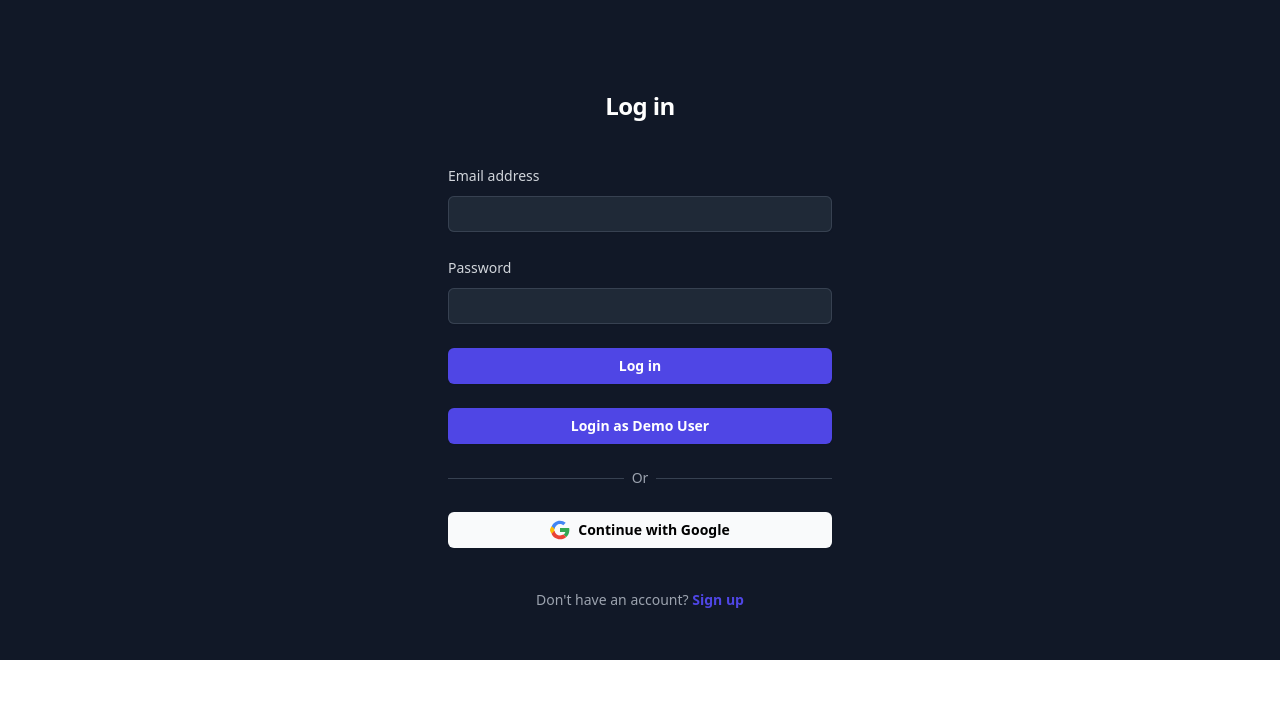
LoginForm › should show validation error for invalid email format
Type "invalid-email" into the field labelled "Email address". click: (640, 214)
box: [448, 196, 832, 232]
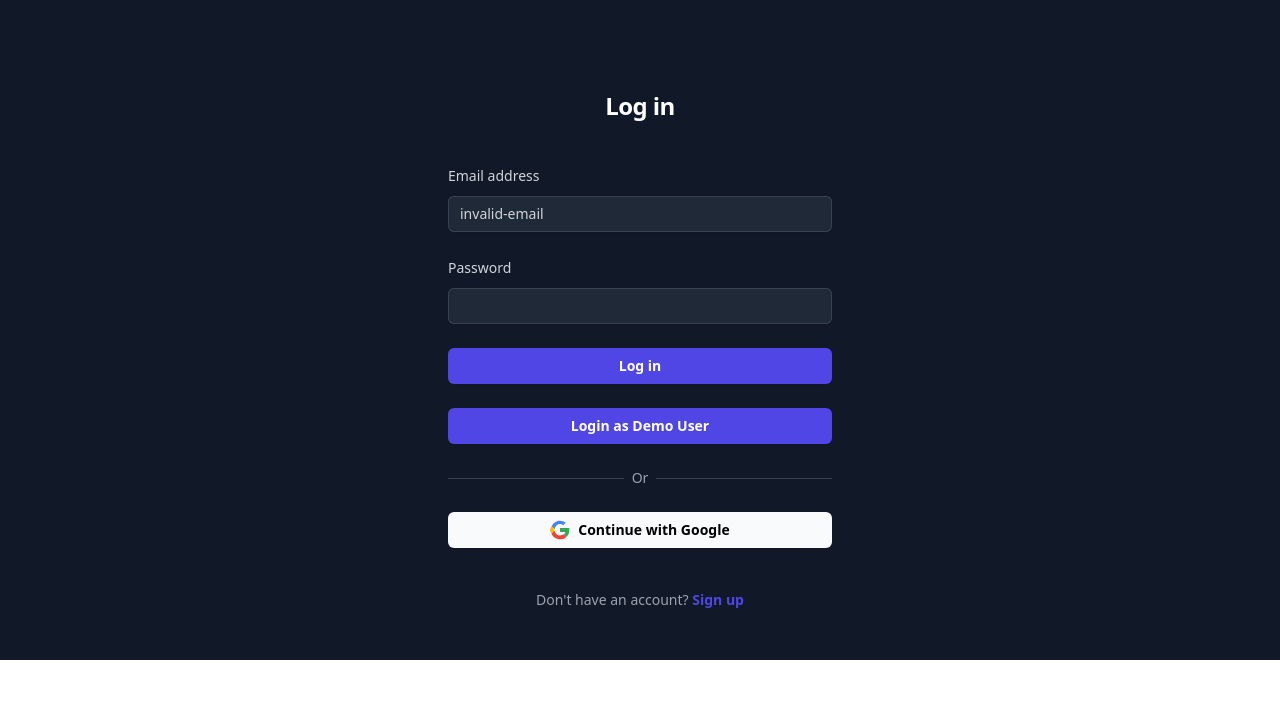
Submit the form from the button "Log in", box [448, 348, 832, 384]
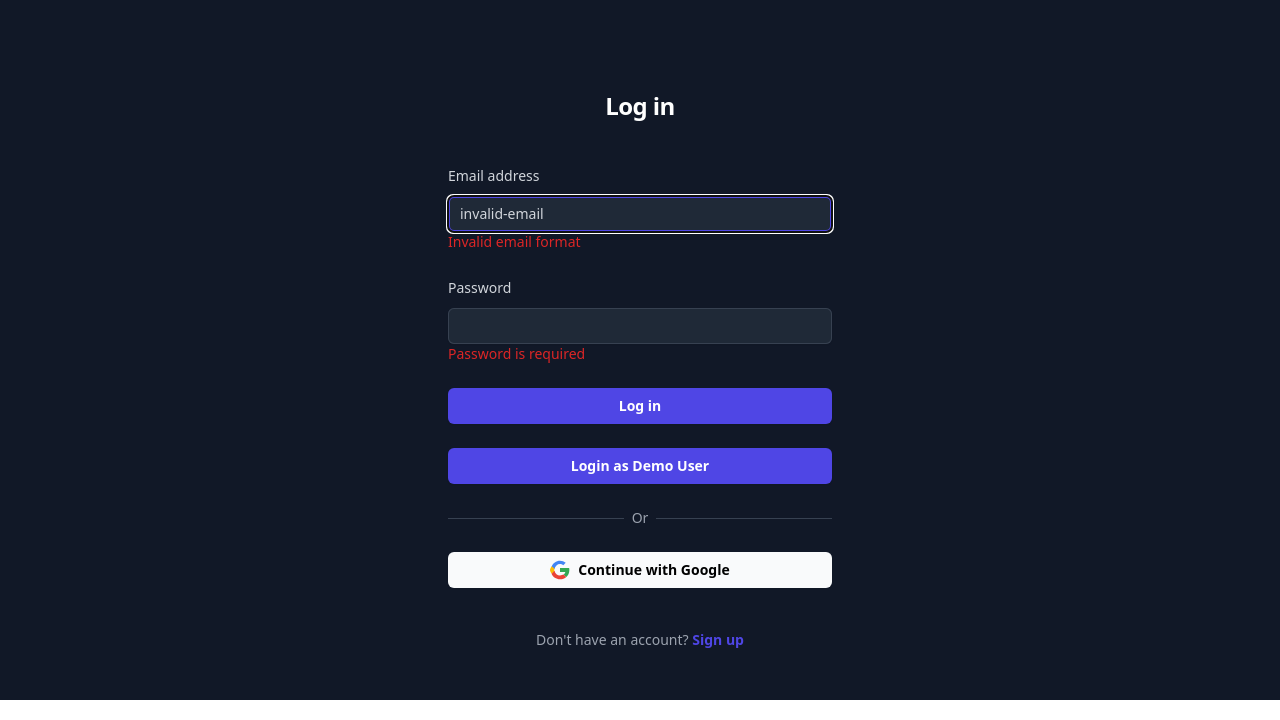
Result: the text "Invalid email format" is shown at [448, 232, 581, 251]
